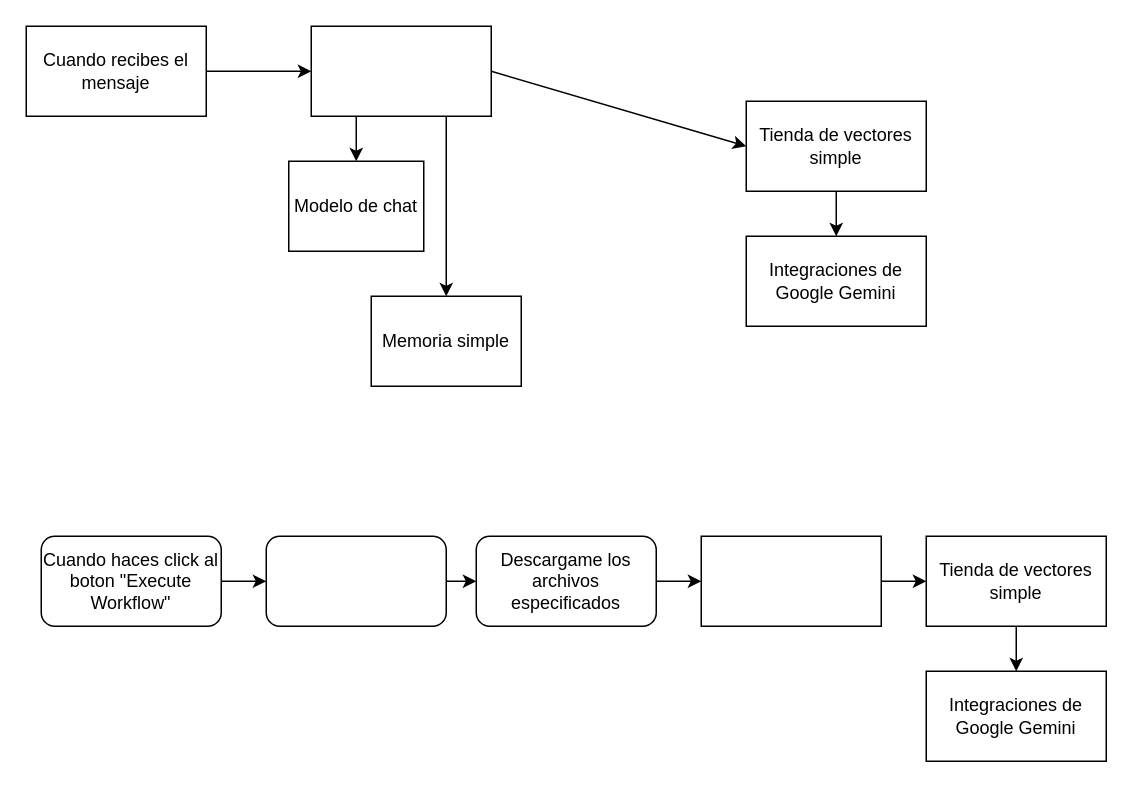
Some shapes in this 1133 by 788 pixel diagram are drawn without their labels. The shapes that lost their labels are listed below. From the top down, each one's centre as x and y in pixels, then its label:
At (x=400, y=70): "Agente de I.A.".
At (x=355, y=580): "Buscame Archivos y Carpetas por Google Drive".
At (x=790, y=580): "Extraeme los archivos".
